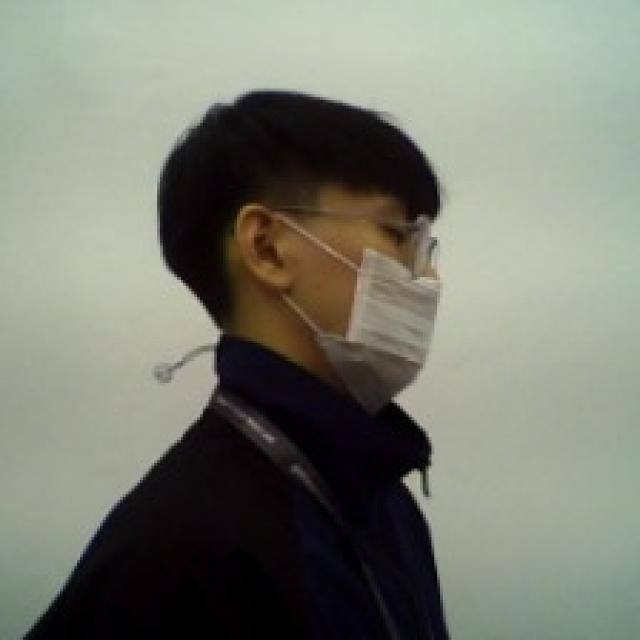mask: (225, 202, 456, 429)
no_gloves: (150, 83, 454, 264)
